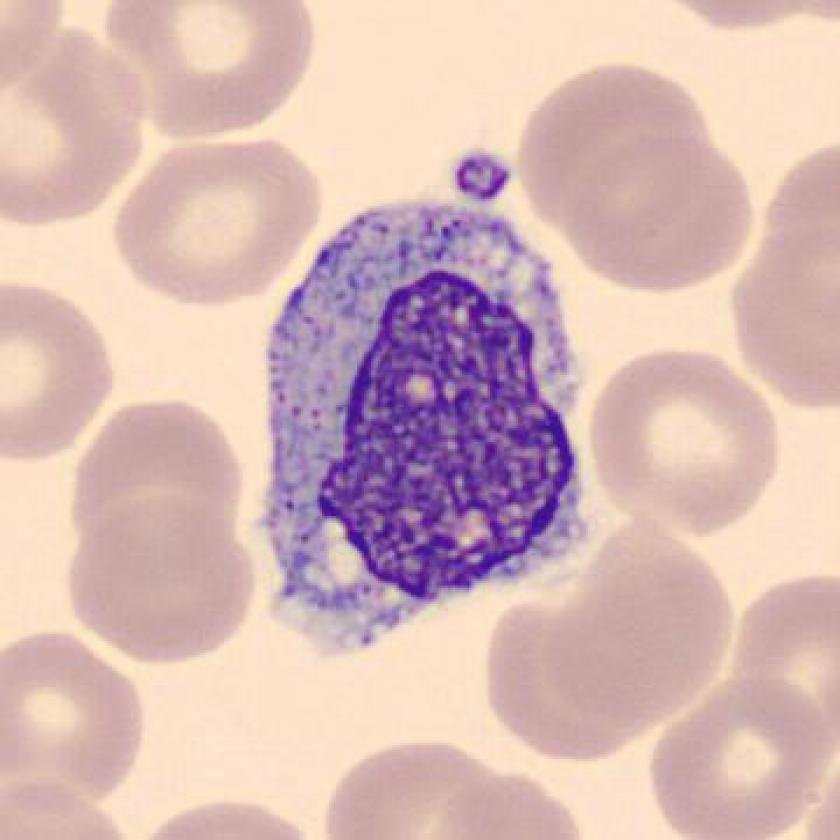monocyte: (232, 165, 633, 686)
